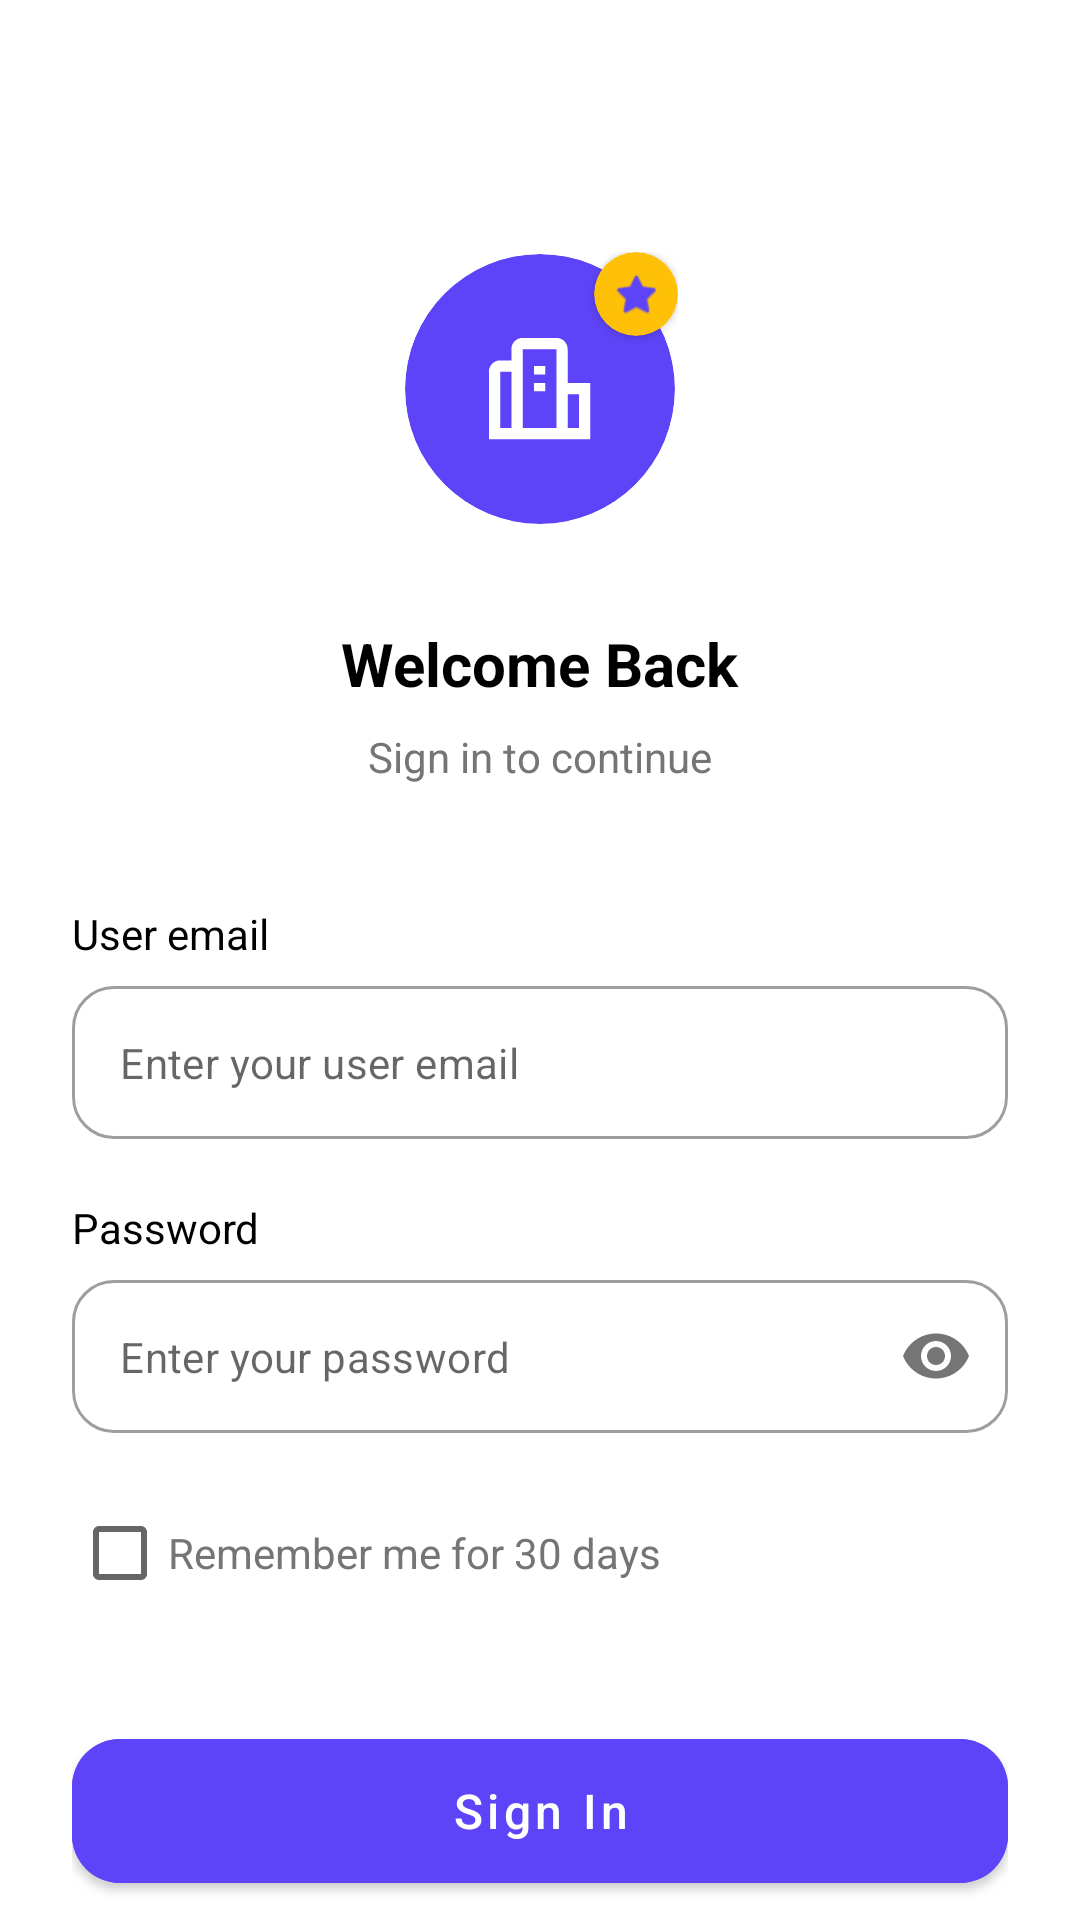

Named icons in this screenshot (1080x1920) and their bounding boxes, (x1, y1, x2, y2):
hotel: (489, 338, 591, 440)
star on: (616, 275, 656, 314)
